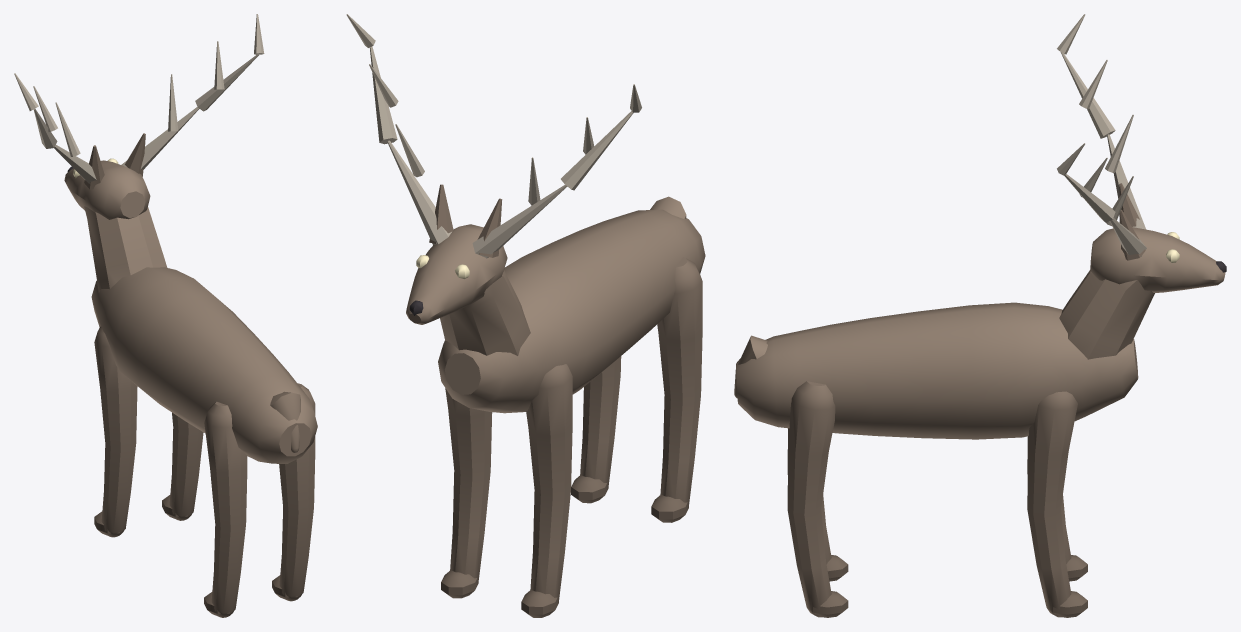
The model's file is deer.gltf.
The picture shows the model from 3 angles, left to right: view 1: azimuth 30°, elevation 25°; view 2: azimuth 150°, elevation 25°; view 3: azimuth 270°, elevation 25°; orthographic projection. The views are drawn at different scales.
Visible parts, largest first — view 1: Body, SwingB2, SwingA1, SwingA2, SwingB1; view 2: Body, SwingA1, SwingB2, SwingB1, SwingA2; view 3: Body, SwingA2, SwingB1, SwingB2, SwingA1.
Part boxes in pixels (x1=…): Body: x1=14, y1=14, x2=317, y2=463; SwingB2: x1=204, y1=401, x2=247, y2=617; SwingA1: x1=94, y1=326, x2=137, y2=537; SwingA2: x1=272, y1=383, x2=315, y2=601; SwingB1: x1=162, y1=412, x2=203, y2=520; Body: x1=346, y1=14, x2=705, y2=413; SwingA1: x1=521, y1=364, x2=572, y2=617; SwingB2: x1=651, y1=257, x2=702, y2=522; SwingB1: x1=441, y1=388, x2=492, y2=598; SwingA2: x1=571, y1=356, x2=621, y2=503; Body: x1=734, y1=14, x2=1226, y2=439; SwingA2: x1=787, y1=381, x2=848, y2=617; SwingB1: x1=1027, y1=391, x2=1087, y2=617; SwingB2: x1=787, y1=428, x2=848, y2=581; SwingA1: x1=1027, y1=436, x2=1087, y2=581.
Bounding box in the file's own units: 1.18 × 2.21 × 1.9.
